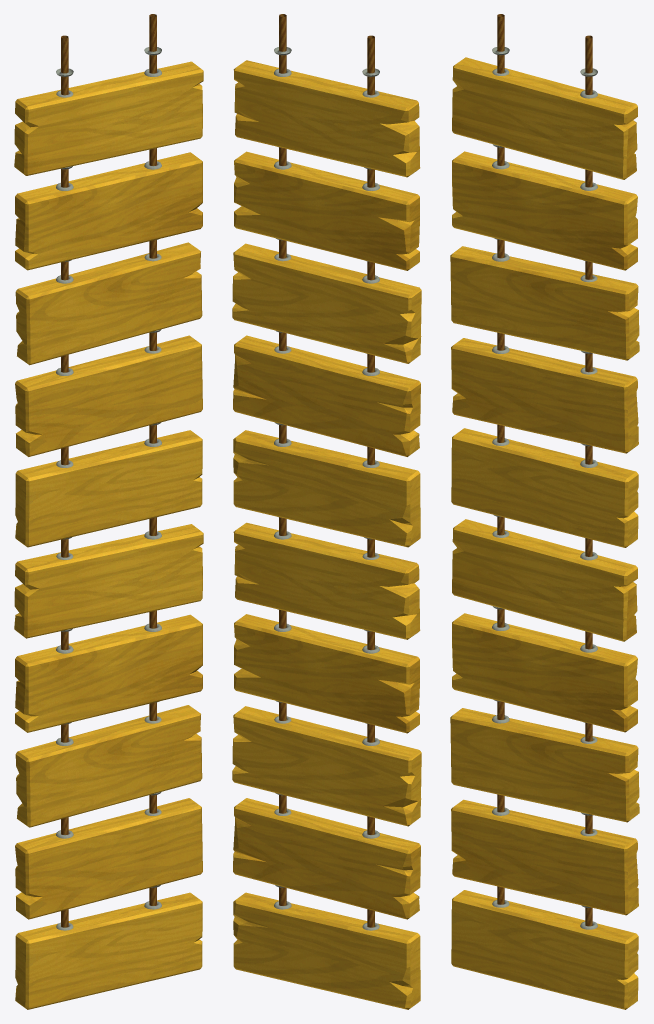
The model's file is Bridge.FBX.
3 views of the same model, side by side, from view 1: azimuth 30°, elevation 25°; view 2: azimuth 150°, elevation 25°; view 3: azimuth 330°, elevation 25° (orthographic).
Visible parts, largest first — view 1: pCube172_1__WoodBridge00_T, pCylinder1_10__Metal02_DY, pTorus1_10__Metal01_DT; view 2: pCube172_1__WoodBridge00_T, pCylinder1_10__Metal02_DY, pTorus1_10__Metal01_DT; view 3: pCube172_1__WoodBridge00_T, pCylinder1_10__Metal02_DY, pTorus1_10__Metal01_DT.
Boxes of the visible parts, bbox=[...] form: pCube172_1__WoodBridge00_T: bbox=[14, 61, 203, 1009]; pCylinder1_10__Metal02_DY: bbox=[61, 14, 156, 927]; pTorus1_10__Metal01_DT: bbox=[56, 47, 161, 930]; pCube172_1__WoodBridge00_T: bbox=[232, 60, 421, 1009]; pCylinder1_10__Metal02_DY: bbox=[279, 14, 374, 927]; pTorus1_10__Metal01_DT: bbox=[274, 47, 379, 930]; pCube172_1__WoodBridge00_T: bbox=[450, 57, 639, 1009]; pCylinder1_10__Metal02_DY: bbox=[497, 14, 592, 926]; pTorus1_10__Metal01_DT: bbox=[492, 47, 597, 929].
Bounding box in the file's own units: 403 × 2077 × 57.46.
